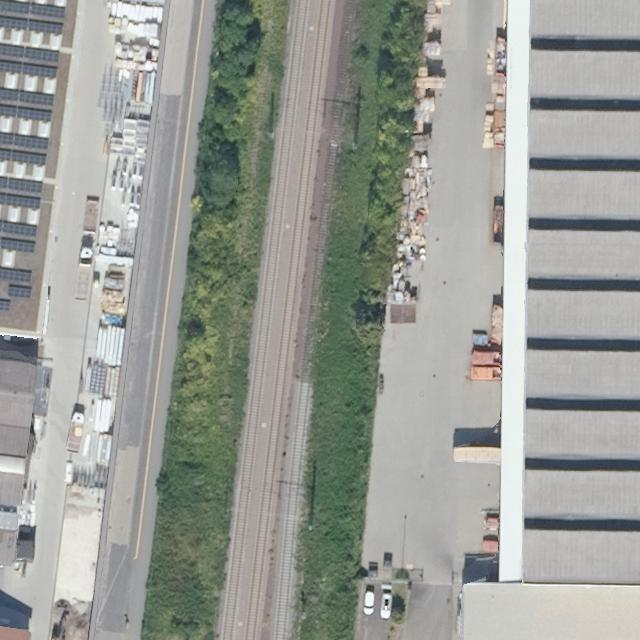PV: (3, 2, 70, 312)
